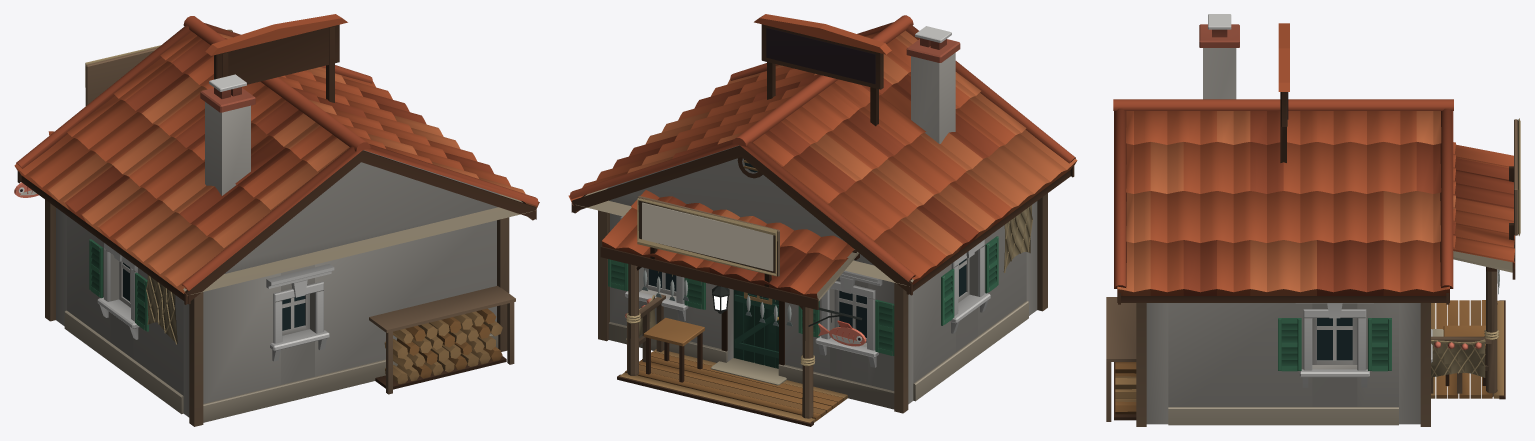
Rendered from pav_semyon.glb.
3 views of the same model, side by side, from view 1: azimuth 30°, elevation 25°; view 2: azimuth 150°, elevation 25°; view 3: azimuth 270°, elevation 25° (orthographic). The views are drawn at different scales.
Parts seen in each view (by area): view 1: static_semyon; view 2: static_semyon; view 3: static_semyon.
Boxes of the visible parts, x1,y1,x2,y2 form: static_semyon: (14, 14, 539, 426); static_semyon: (568, 14, 1077, 426); static_semyon: (1106, 14, 1520, 426).
Bounding box in the file's own units: 6.34 × 5.22 × 6.47.
